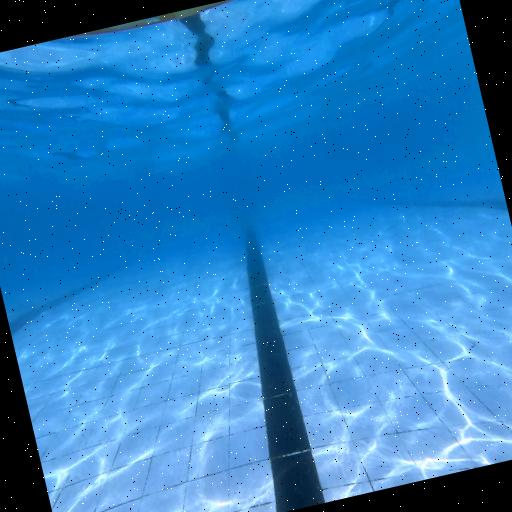gate: (12, 0, 305, 58)
